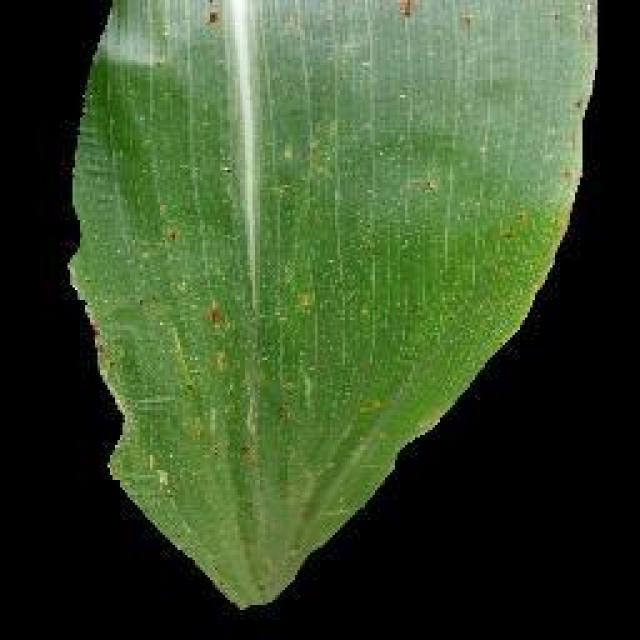Corn Common Rust: (125, 21, 322, 542)
